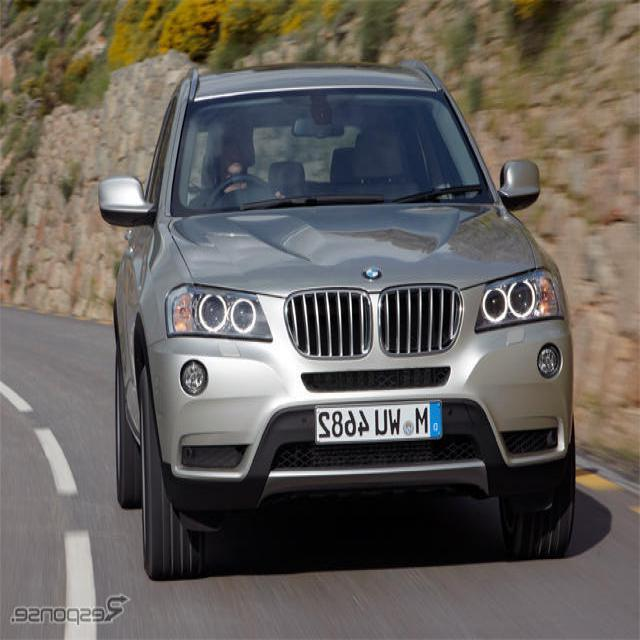Zeep: (98, 31, 613, 587)
